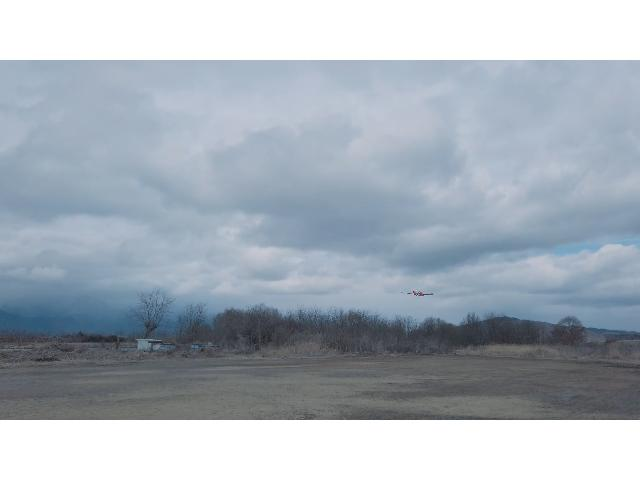Anti-Drone: (400, 288, 436, 300)
